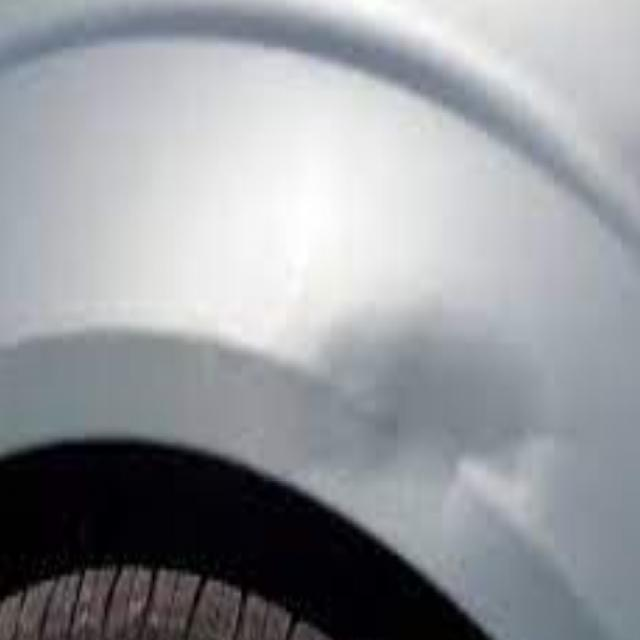dents: (336, 203, 590, 514)
